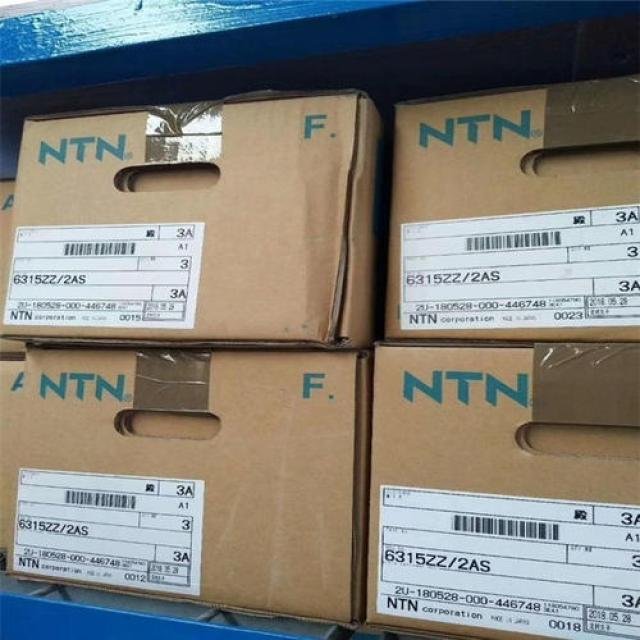box: (0, 91, 391, 351), (5, 347, 369, 621), (363, 338, 639, 637), (381, 73, 638, 340), (1, 351, 26, 556), (1, 179, 16, 324)
